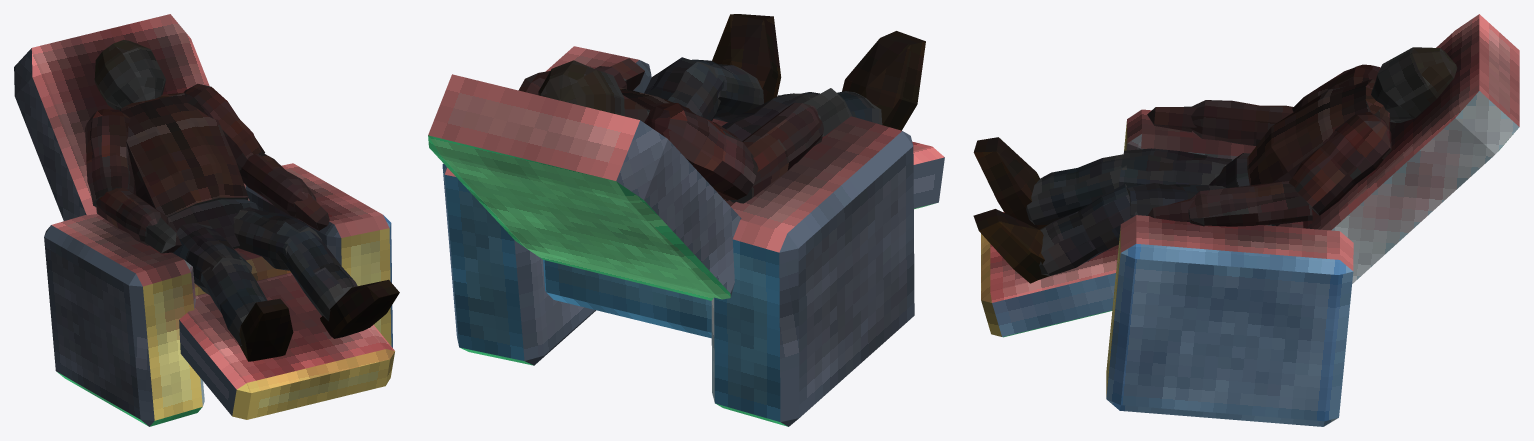
The model's file is db_chair-EKA2GGFR.gltf.
3 renders of one model, left to right at view 1: azimuth 30°, elevation 25°; view 2: azimuth 150°, elevation 25°; view 3: azimuth 270°, elevation 25°, orthographic. The views are drawn at different scales.
Parts seen in each view (by area): view 1: beveled_cuboid, torso, head, l_arm, r_leg_lower, l_leg_lower, r_leg, r_foot, l_foot, r_arm_lower, r_arm, l_leg (+4 smaller); view 2: beveled_cuboid, l_arm, l_foot, l_arm_lower, r_foot, head, r_leg, r_leg_lower, l_leg, l_hand, torso, l_leg_lower (+1 smaller); view 3: beveled_cuboid, torso, r_arm, r_leg_lower, r_arm_lower, head, l_leg_lower, l_leg, l_arm_lower, l_foot, r_foot, r_leg (+4 smaller).
Boxes of the visible parts, x1,y1,x2,y2 form: beveled_cuboid: (14, 14, 394, 426); torso: (119, 92, 248, 217); head: (94, 39, 165, 110); l_arm: (85, 109, 136, 206); r_leg_lower: (277, 230, 357, 321); l_leg_lower: (200, 257, 267, 345); r_leg: (233, 207, 321, 270); r_foot: (320, 279, 399, 338); l_foot: (238, 298, 293, 361); r_arm_lower: (240, 152, 316, 218); r_arm: (184, 83, 264, 171); l_leg: (172, 223, 252, 294); beveled_cuboid: (428, 46, 944, 426); l_arm: (644, 103, 758, 200); l_foot: (842, 31, 925, 130); l_arm_lower: (730, 102, 823, 203); r_foot: (712, 14, 781, 103); head: (538, 60, 624, 116); r_leg: (644, 57, 724, 120); r_leg_lower: (691, 59, 763, 121); l_leg: (721, 93, 809, 141); l_hand: (803, 88, 851, 136); torso: (619, 87, 691, 122); l_leg_lower: (777, 91, 882, 124); beveled_cuboid: (981, 14, 1519, 426); torso: (1247, 79, 1390, 226); r_arm: (1289, 112, 1391, 215); r_leg_lower: (1039, 184, 1137, 275); r_arm_lower: (1188, 180, 1312, 226); head: (1371, 47, 1457, 122); l_leg_lower: (1026, 154, 1126, 224); l_leg: (1119, 148, 1232, 186); l_arm_lower: (1190, 100, 1293, 145); l_foot: (973, 137, 1048, 229); r_foot: (973, 209, 1049, 283); r_leg: (1126, 183, 1226, 218).
Size of the model in its own units: 1.64 by 1.64 by 2.63.
2 materials, 2 textured.
